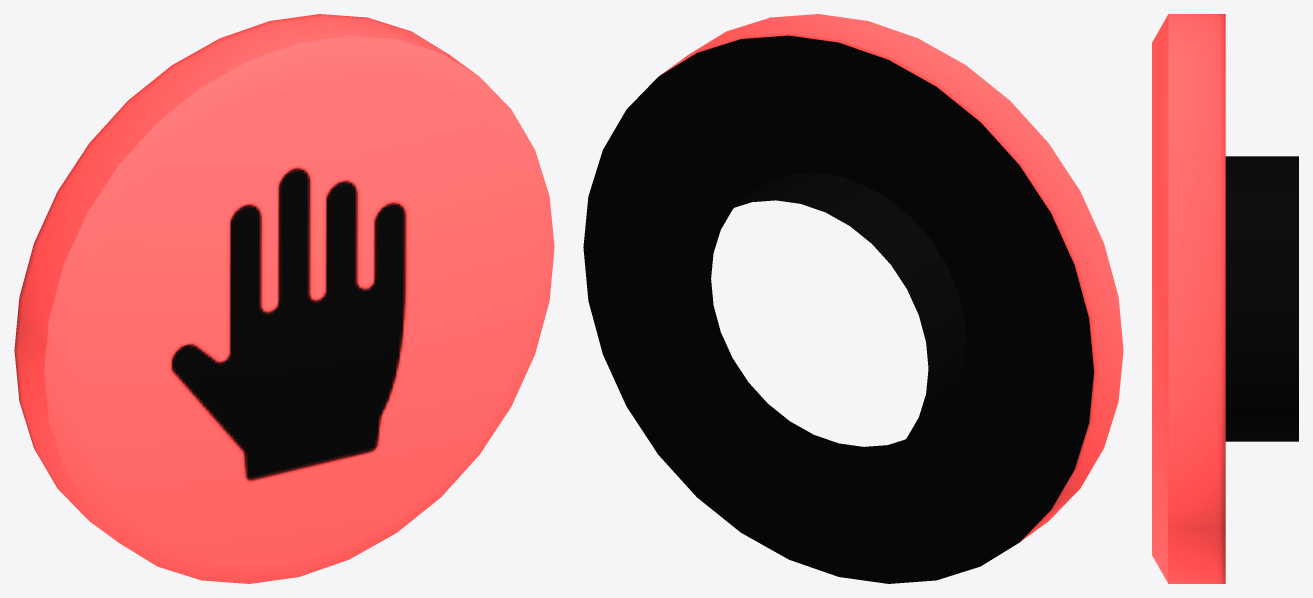
File: pushbuttontop.gltf
3 renders of one model, left to right at view 1: azimuth 30°, elevation 25°; view 2: azimuth 150°, elevation 25°; view 3: azimuth 270°, elevation 25°, orthographic. The views are drawn at different scales.
Parts seen in each view (by area): view 1: PushButtonTop; view 2: PushButtonTop; view 3: PushButtonTop.
Part boxes in pixels (box(x1,y1,x2,y2)): PushButtonTop: box(14, 14, 554, 583); PushButtonTop: box(583, 14, 1123, 583); PushButtonTop: box(1152, 14, 1298, 583).
Size of the model in its own units: 0.224 by 0.224 by 0.0576.
Materials: 1 (1 with a texture image).
